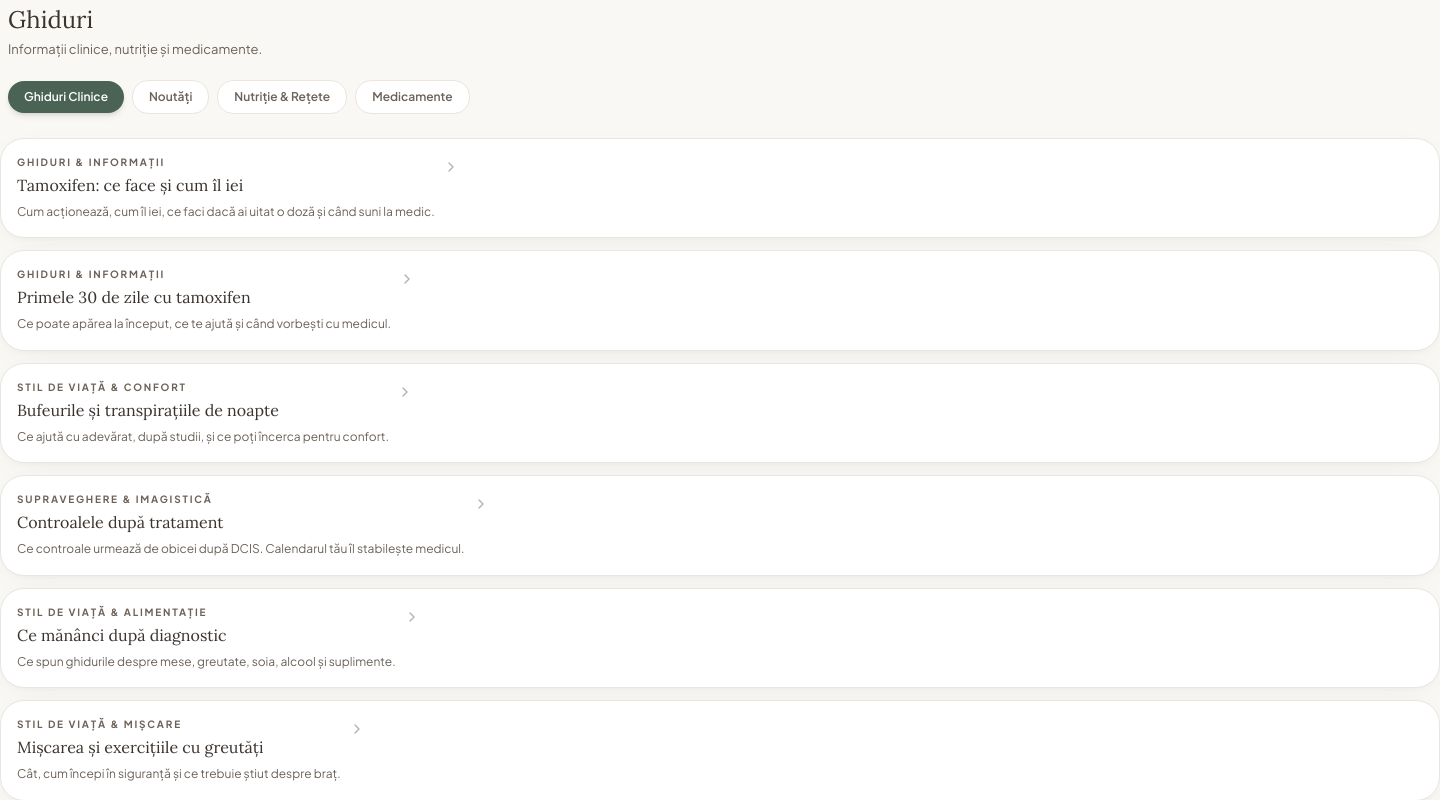
Test: Ghiduri → Medicamente › caută și spune clar că lipsa din listă nu înseamnă siguranță
The image size is (1440, 800).
Click the button "Medicamente": [412, 96] box [355,80,470,114]
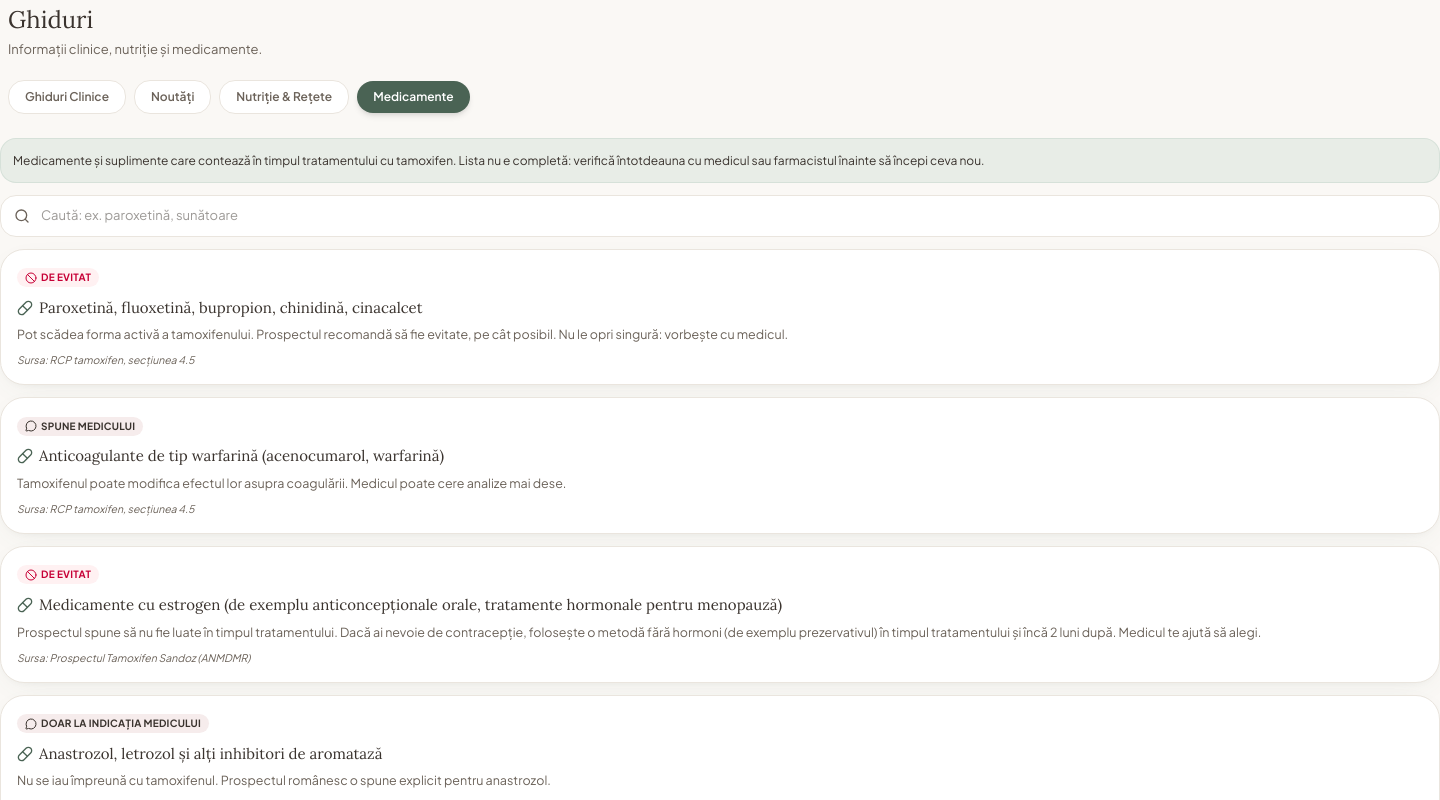
In the search field named "Caută un medicament sau un supliment": [720, 216] box [0,195,1439,236], type "sunătoare"
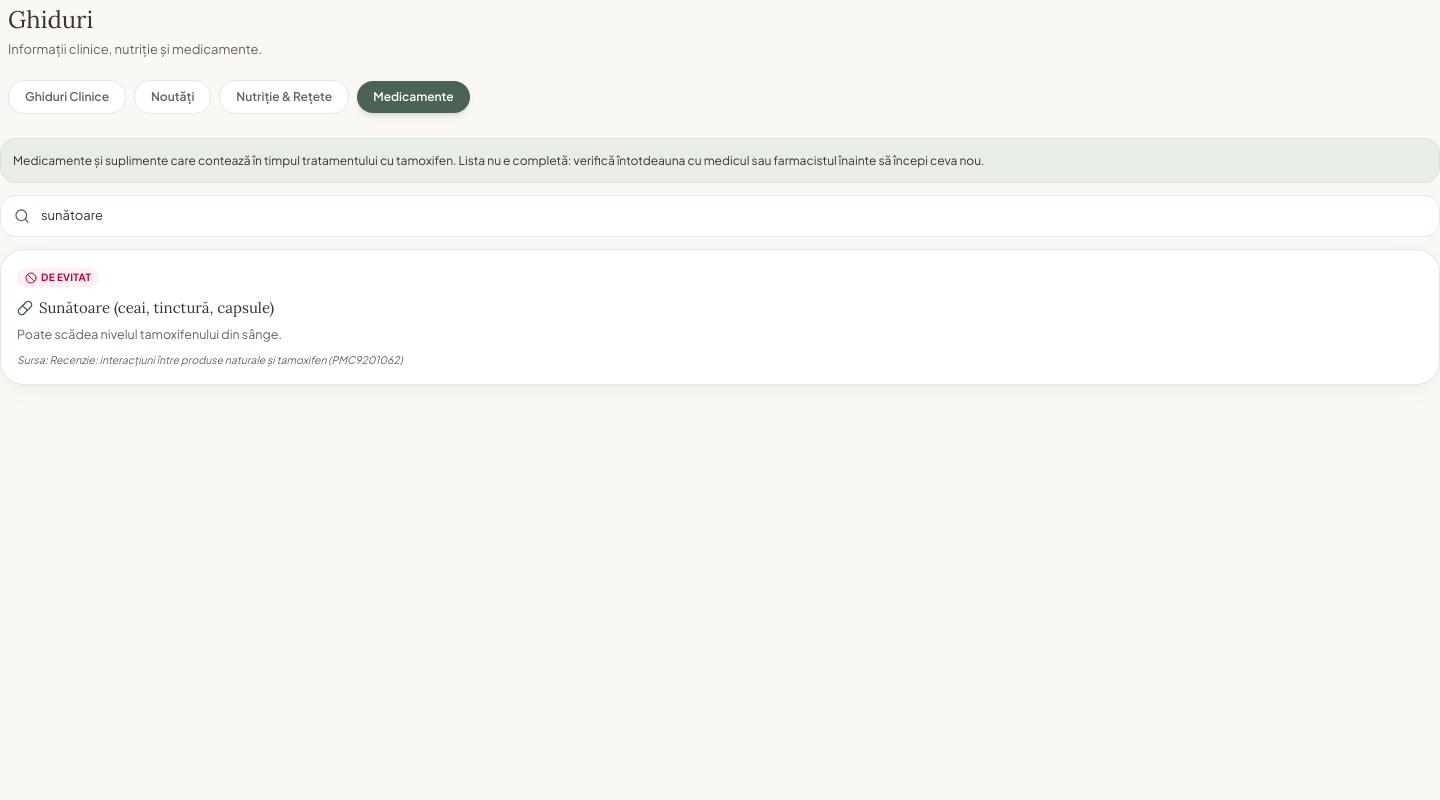
Check: the heading "Sunătoare (ceai, tinctură, capsule)" is shown, box [17,298,274,316]
Replace the text in the search field named "Caută un medicament sau un supliment" with "ibuprofen": [720, 216] box [0,195,1439,236]
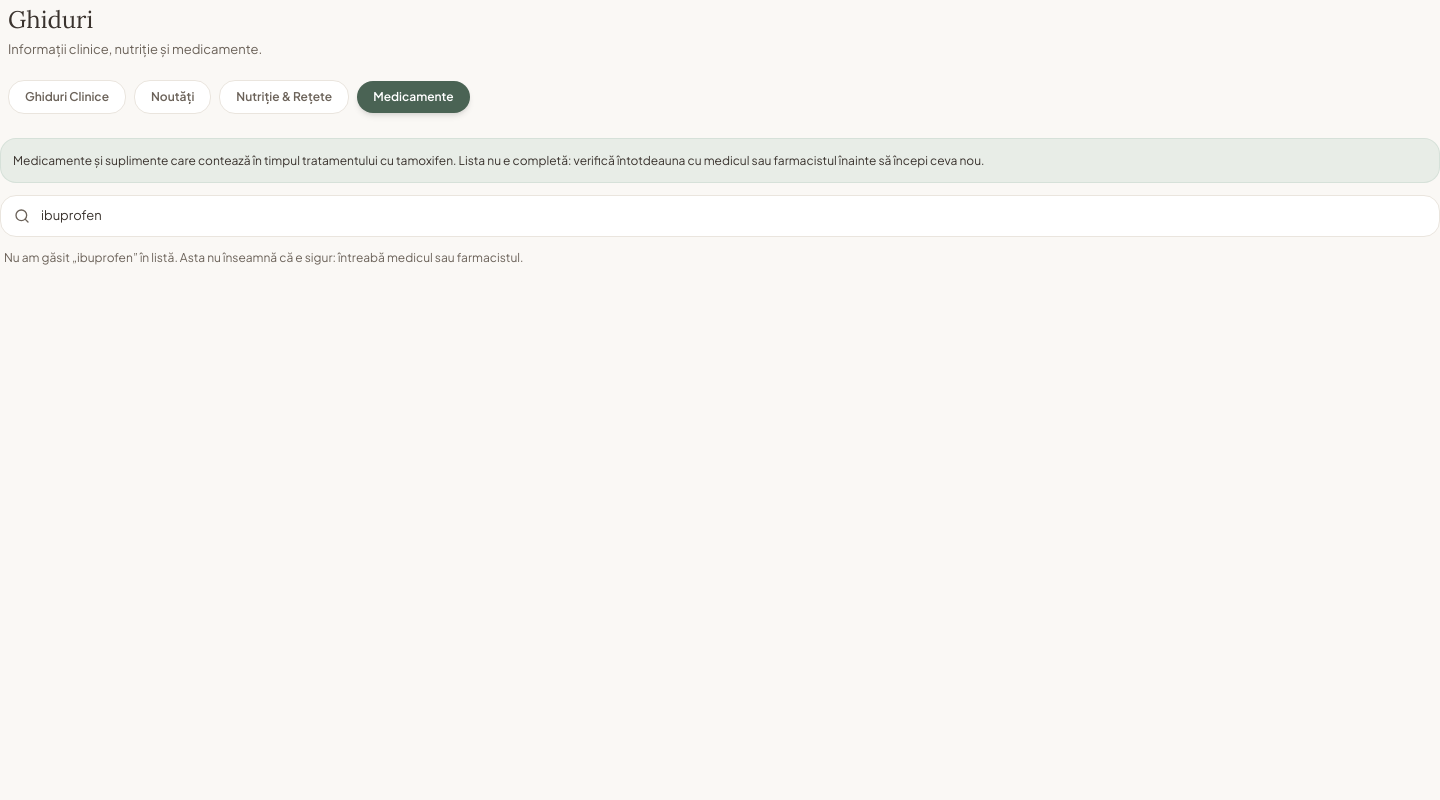
Check: the text "Asta nu înseamnă că e sigur" is shown, box [133,250,524,264]
